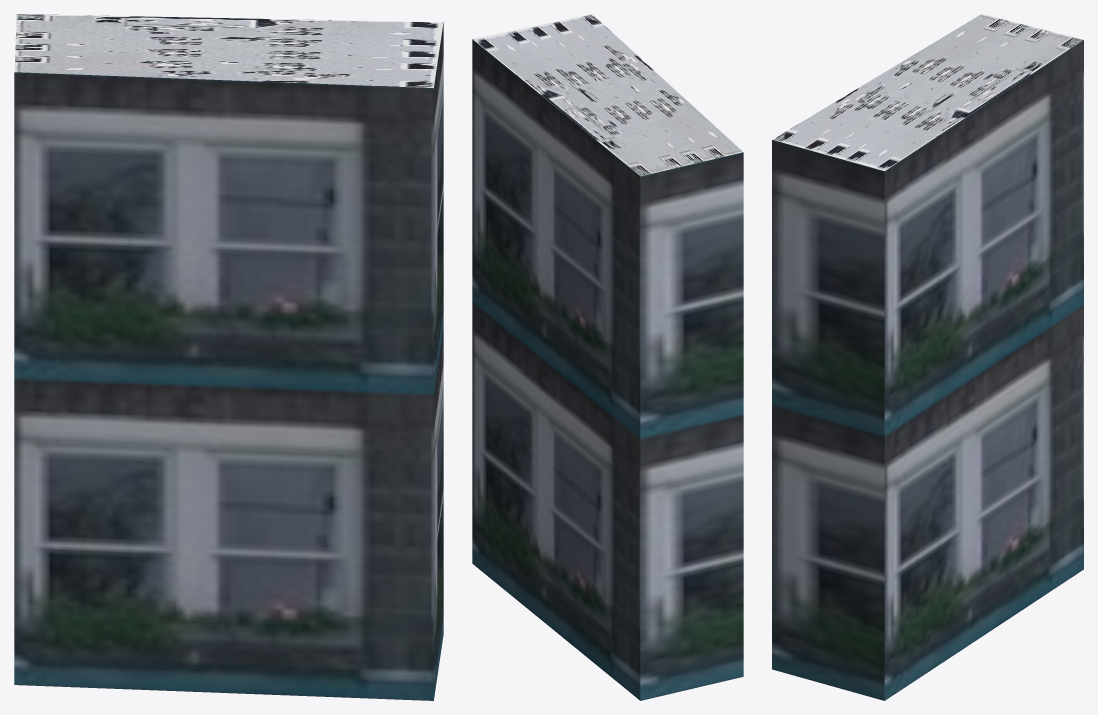
The model's file is ResTex__565.fbx.
3 views of the same model, side by side, from view 1: azimuth 30°, elevation 25°; view 2: azimuth 150°, elevation 25°; view 3: azimuth 270°, elevation 25° (orthographic). The views are drawn at different scales.
Parts seen in each view (by area): view 1: CityEngineMaterial_11_m, CityEngineMaterial_2_m; view 2: CityEngineMaterial_11_m, CityEngineMaterial_2_m; view 3: CityEngineMaterial_11_m, CityEngineMaterial_2_m.
Part boxes in pixels (x1,y1,x2,y2): CityEngineMaterial_11_m: (14,22,443,700); CityEngineMaterial_2_m: (14,14,443,88); CityEngineMaterial_11_m: (472,39,743,700); CityEngineMaterial_2_m: (472,14,743,176); CityEngineMaterial_11_m: (772,40,1083,700); CityEngineMaterial_2_m: (772,14,1083,171).
Size of the model in its own units: 3.82 by 6 by 3.2.
Materials: 2 (2 with a texture image).
